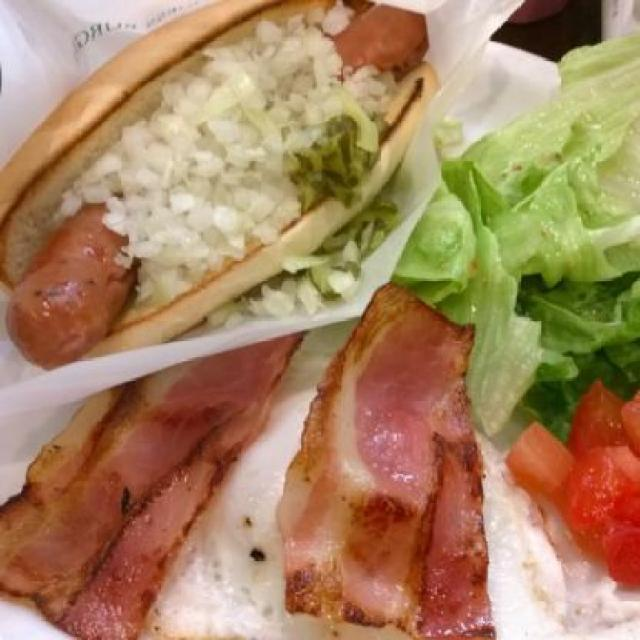Hot dog: (0, 0, 477, 403)
